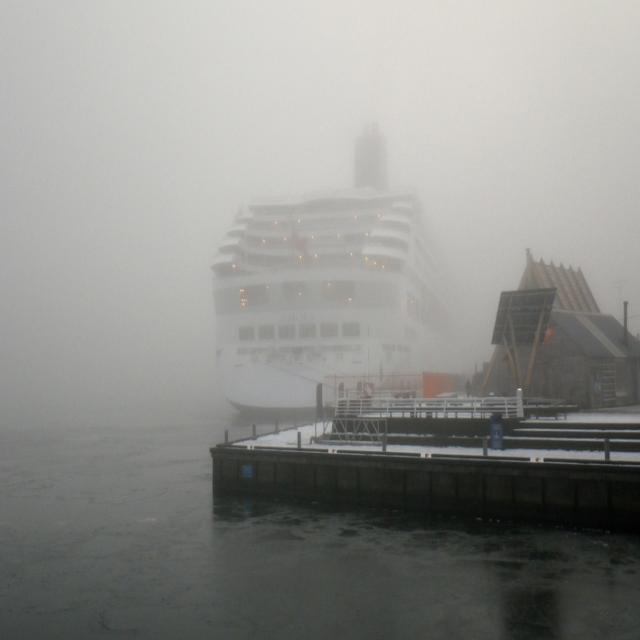passenger ship: (201, 153, 472, 386)
